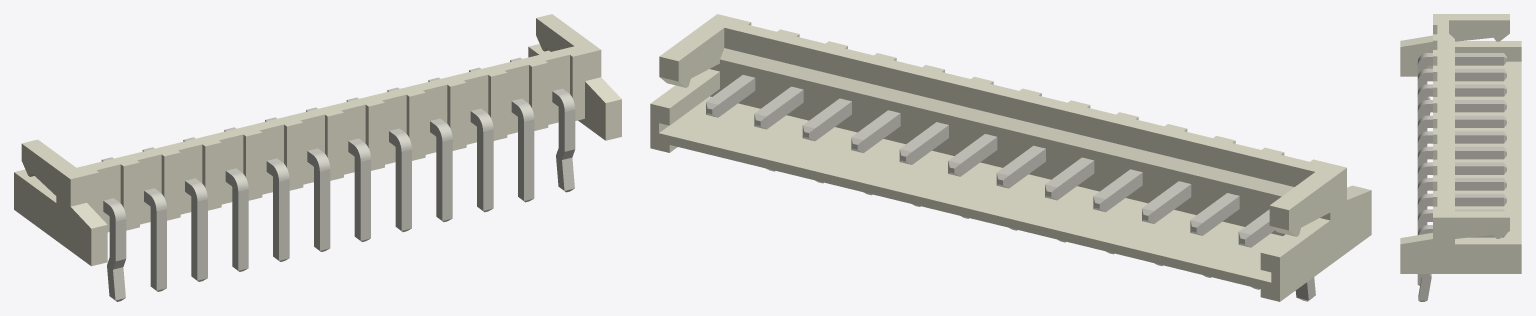
Rendered from kc-jst_eh_s12b-eh_1x12_p2.50mm_horizontal.glb.
3 views of the same model, side by side, from view 1: azimuth 30°, elevation 25°; view 2: azimuth 150°, elevation 25°; view 3: azimuth 270°, elevation 25° (orthographic). The views are drawn at different scales.
Visible parts, largest first — view 1: 0.75_0.75_0.5833333333333334_0, 0.6666666666666666_0.6666666666666666_0.5833333333333334_0.8; view 2: 0.75_0.75_0.5833333333333334_0, 0.6666666666666666_0.6666666666666666_0.5833333333333334_0.8; view 3: 0.75_0.75_0.5833333333333334_0, 0.6666666666666666_0.6666666666666666_0.5833333333333334_0.8.
Boxes of the visible parts, x1,y1,x2,y2 form: 0.75_0.75_0.5833333333333334_0: [14, 14, 621, 266]; 0.6666666666666666_0.6666666666666666_0.5833333333333334_0.8: [101, 57, 575, 301]; 0.75_0.75_0.5833333333333334_0: [650, 14, 1371, 301]; 0.6666666666666666_0.6666666666666666_0.5833333333333334_0.8: [706, 75, 1315, 301]; 0.75_0.75_0.5833333333333334_0: [1400, 14, 1521, 273]; 0.6666666666666666_0.6666666666666666_0.5833333333333334_0.8: [1417, 53, 1506, 301].
Size of the model in its own units: 3.25 by 0.7401 by 0.8202.
